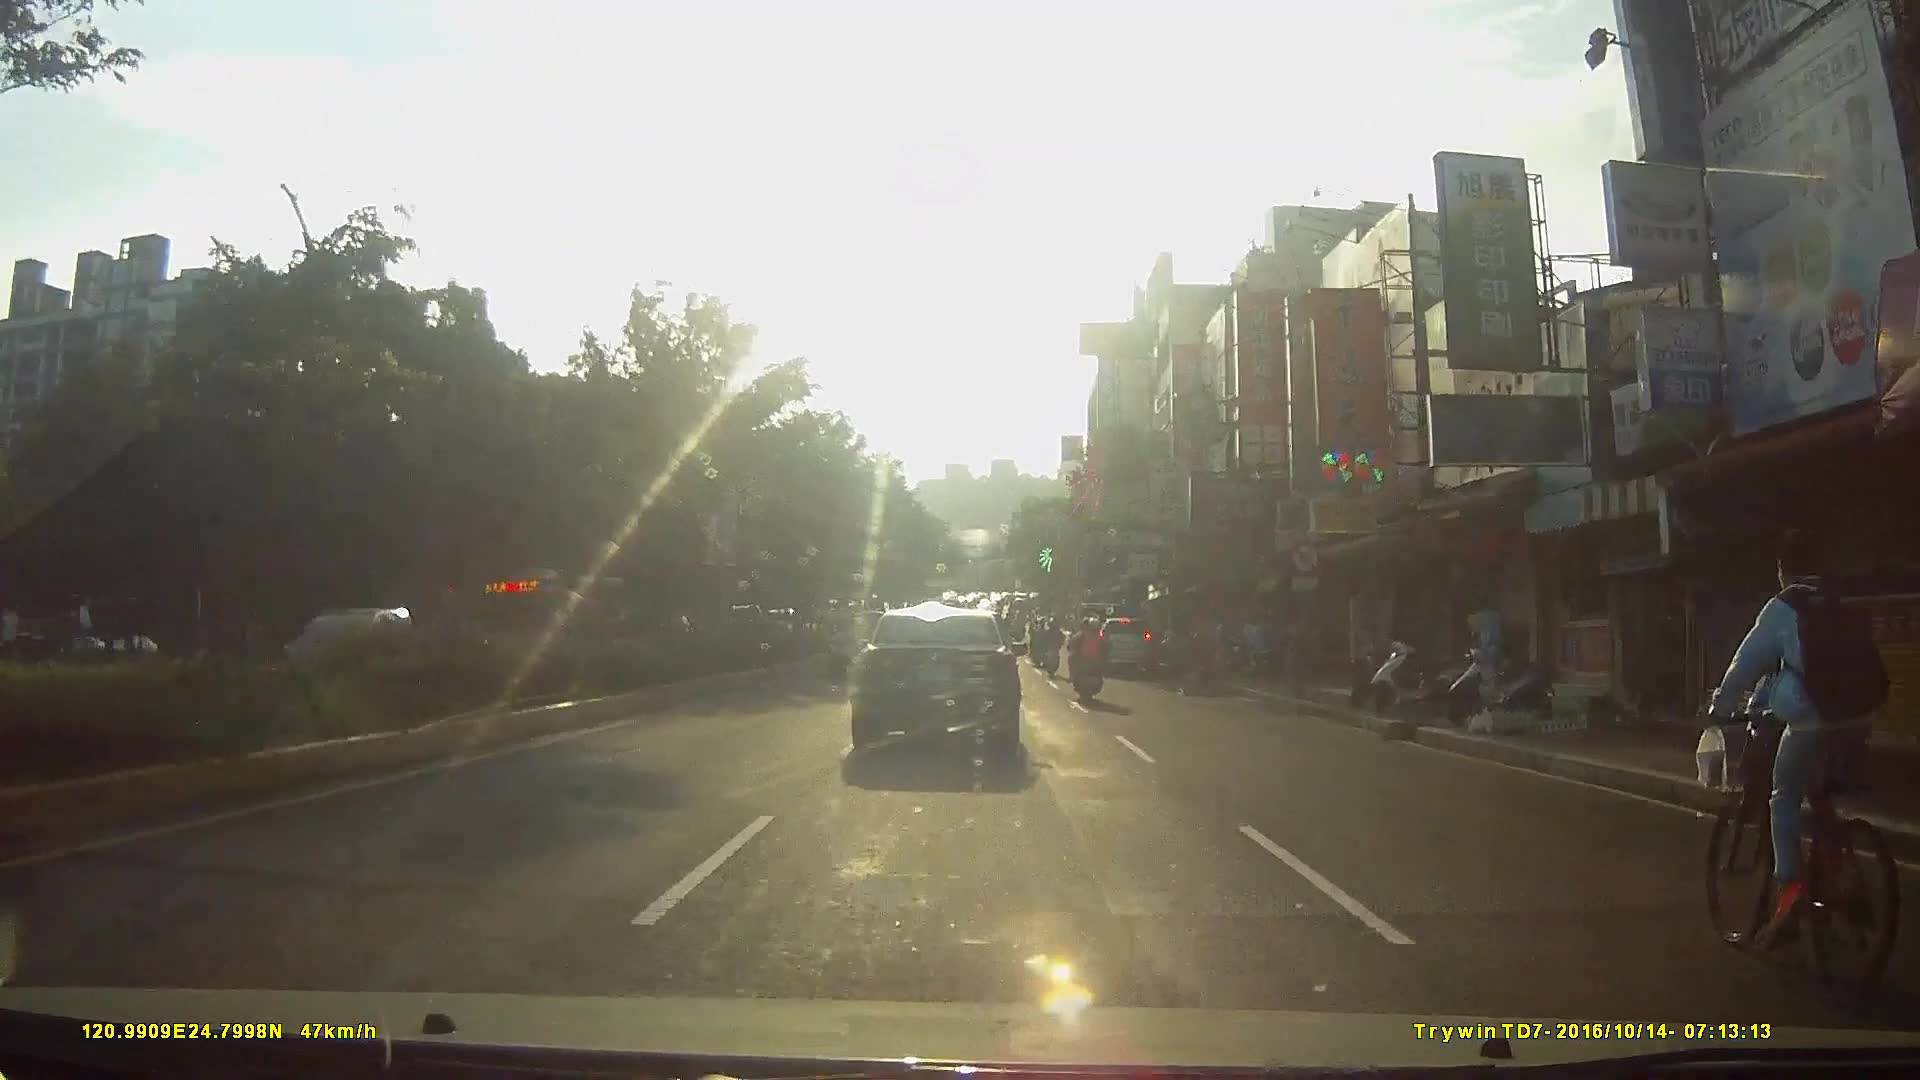pedestrian: (1468, 588, 1508, 682)
rider: (1699, 530, 1900, 1003), (1064, 613, 1108, 710), (1036, 616, 1065, 681)
vehicle: (845, 594, 1040, 767), (1089, 609, 1161, 674)
